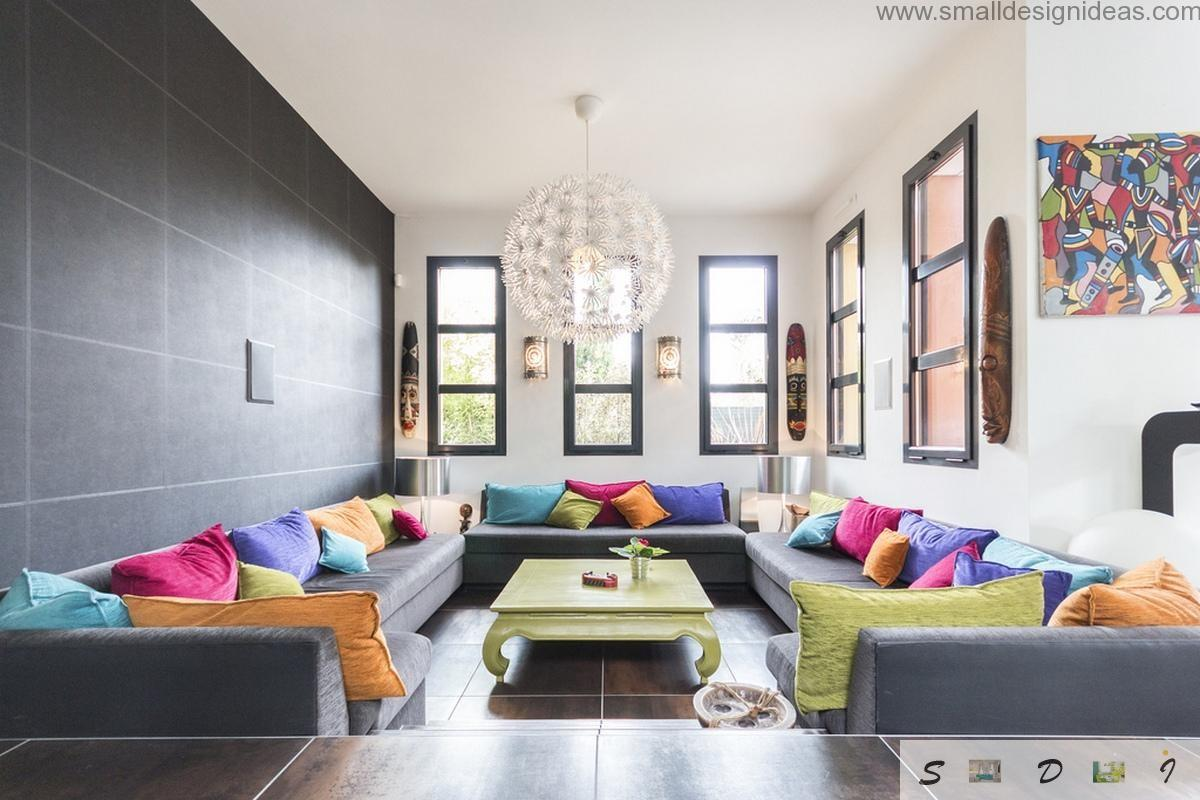biru: (10, 571, 119, 621), (662, 488, 727, 525), (483, 487, 548, 524), (327, 533, 362, 571), (797, 517, 832, 555)
hijau: (484, 554, 722, 679), (792, 580, 1050, 624), (553, 490, 598, 526)
merah: (841, 506, 897, 544)
orange: (1058, 558, 1200, 629), (131, 595, 379, 627), (619, 494, 666, 522)
ungu: (238, 526, 322, 577)
